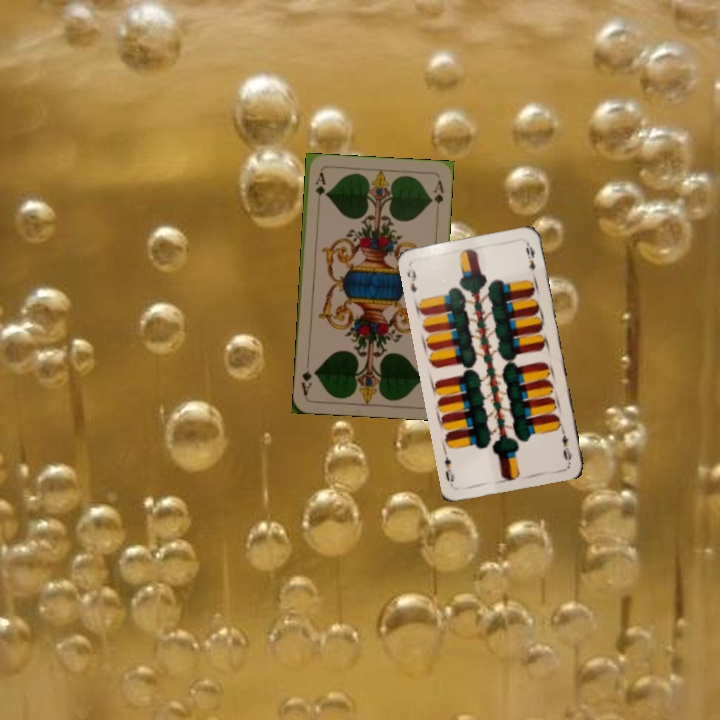E9: (557, 424, 575, 465), (403, 264, 420, 295)
GA: (311, 168, 327, 209)
